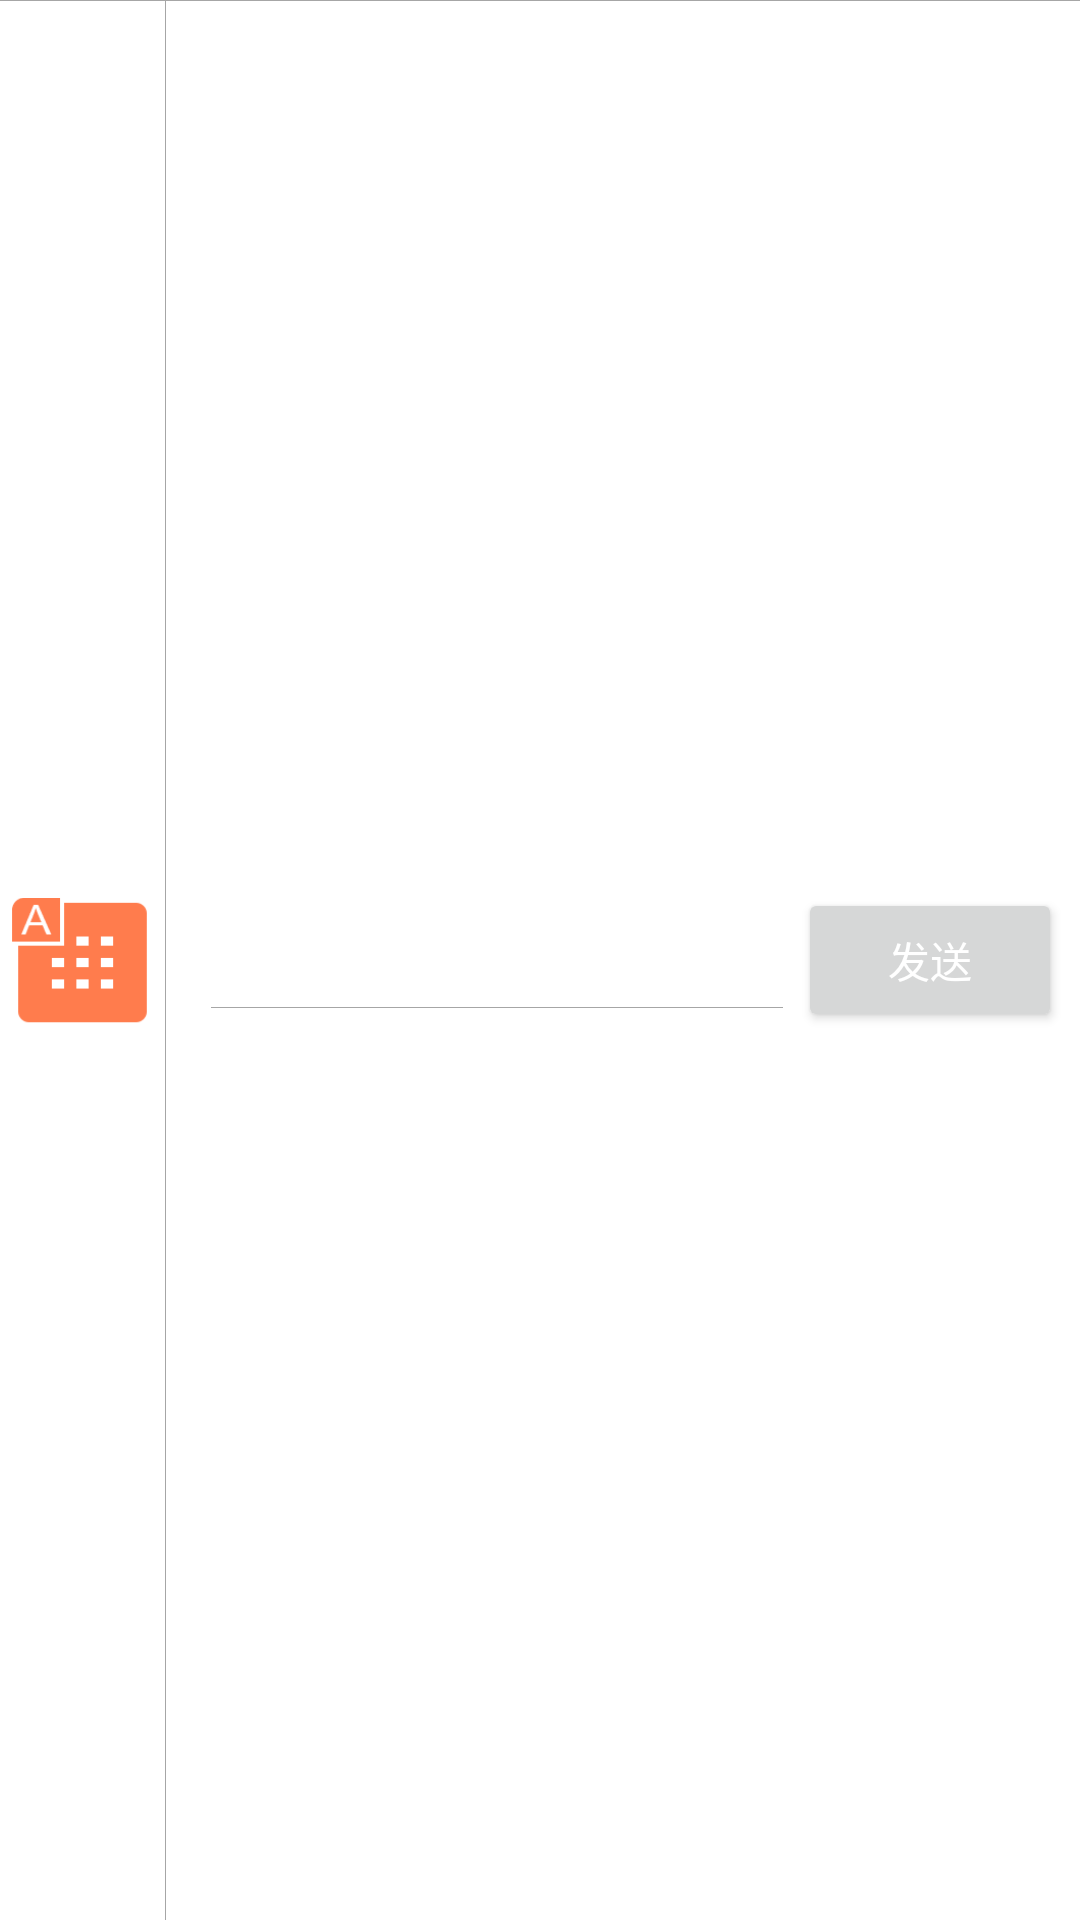

Locate icon controls on the screen. Image size 1080×1920, boxes as [x1, y1, x2, y2].
keyboard: [12, 898, 147, 1023]
